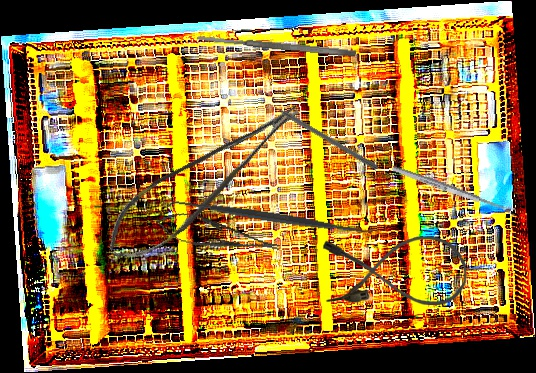Cannula: (323, 236, 467, 305)
Micro Scissor: (91, 97, 323, 273)
Needle Holder: (153, 207, 283, 263)
Pusher: (261, 96, 380, 171)
Spatula Surgical: (166, 189, 375, 246), (196, 32, 357, 59)
Surgical Spoon: (391, 164, 517, 217)
